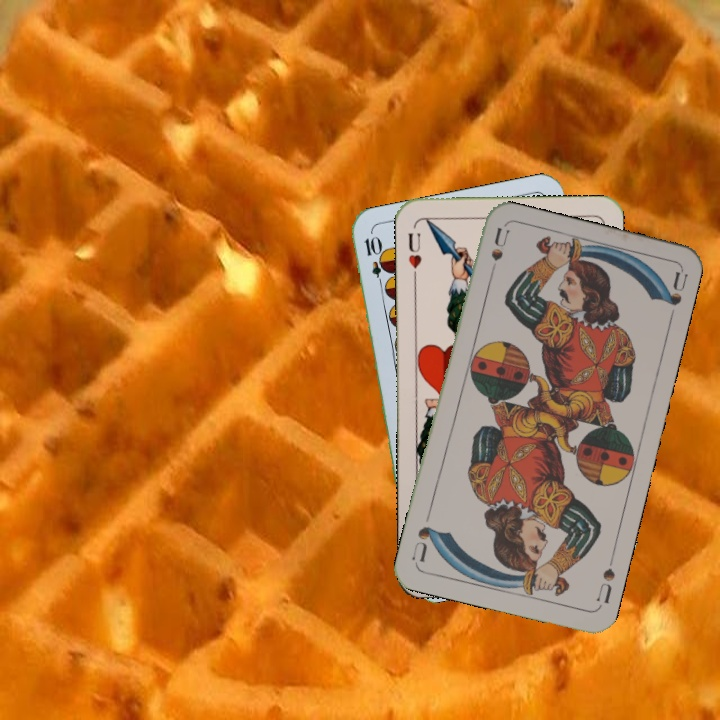E10: (360, 232, 388, 291)
HU: (404, 229, 424, 271)
SU: (484, 224, 512, 284), (592, 564, 618, 606)
